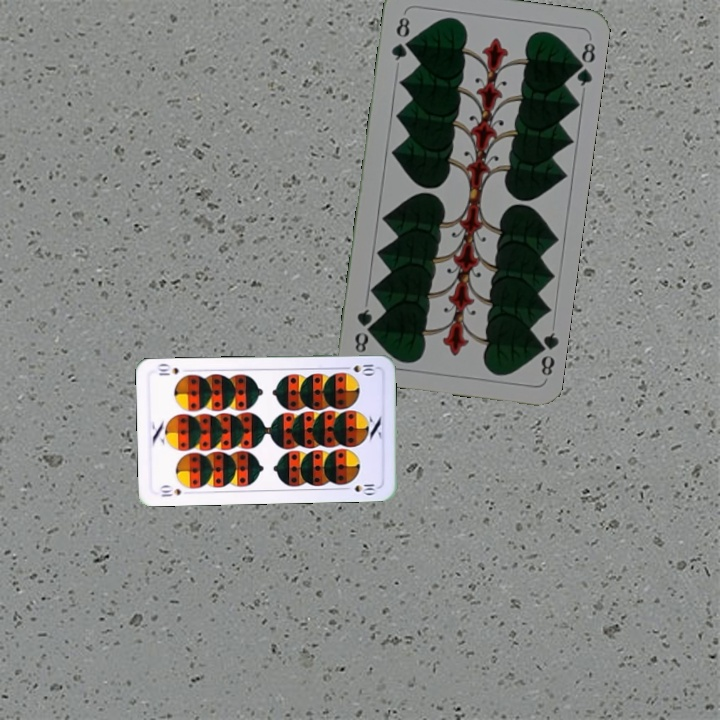G8: (531, 328, 561, 378), (387, 13, 413, 63)
S10: (339, 360, 379, 376), (156, 482, 183, 500)
